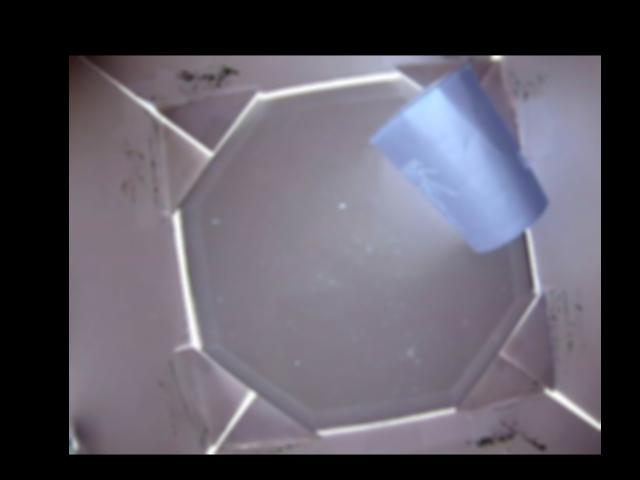Cup: (368, 65, 549, 251)
